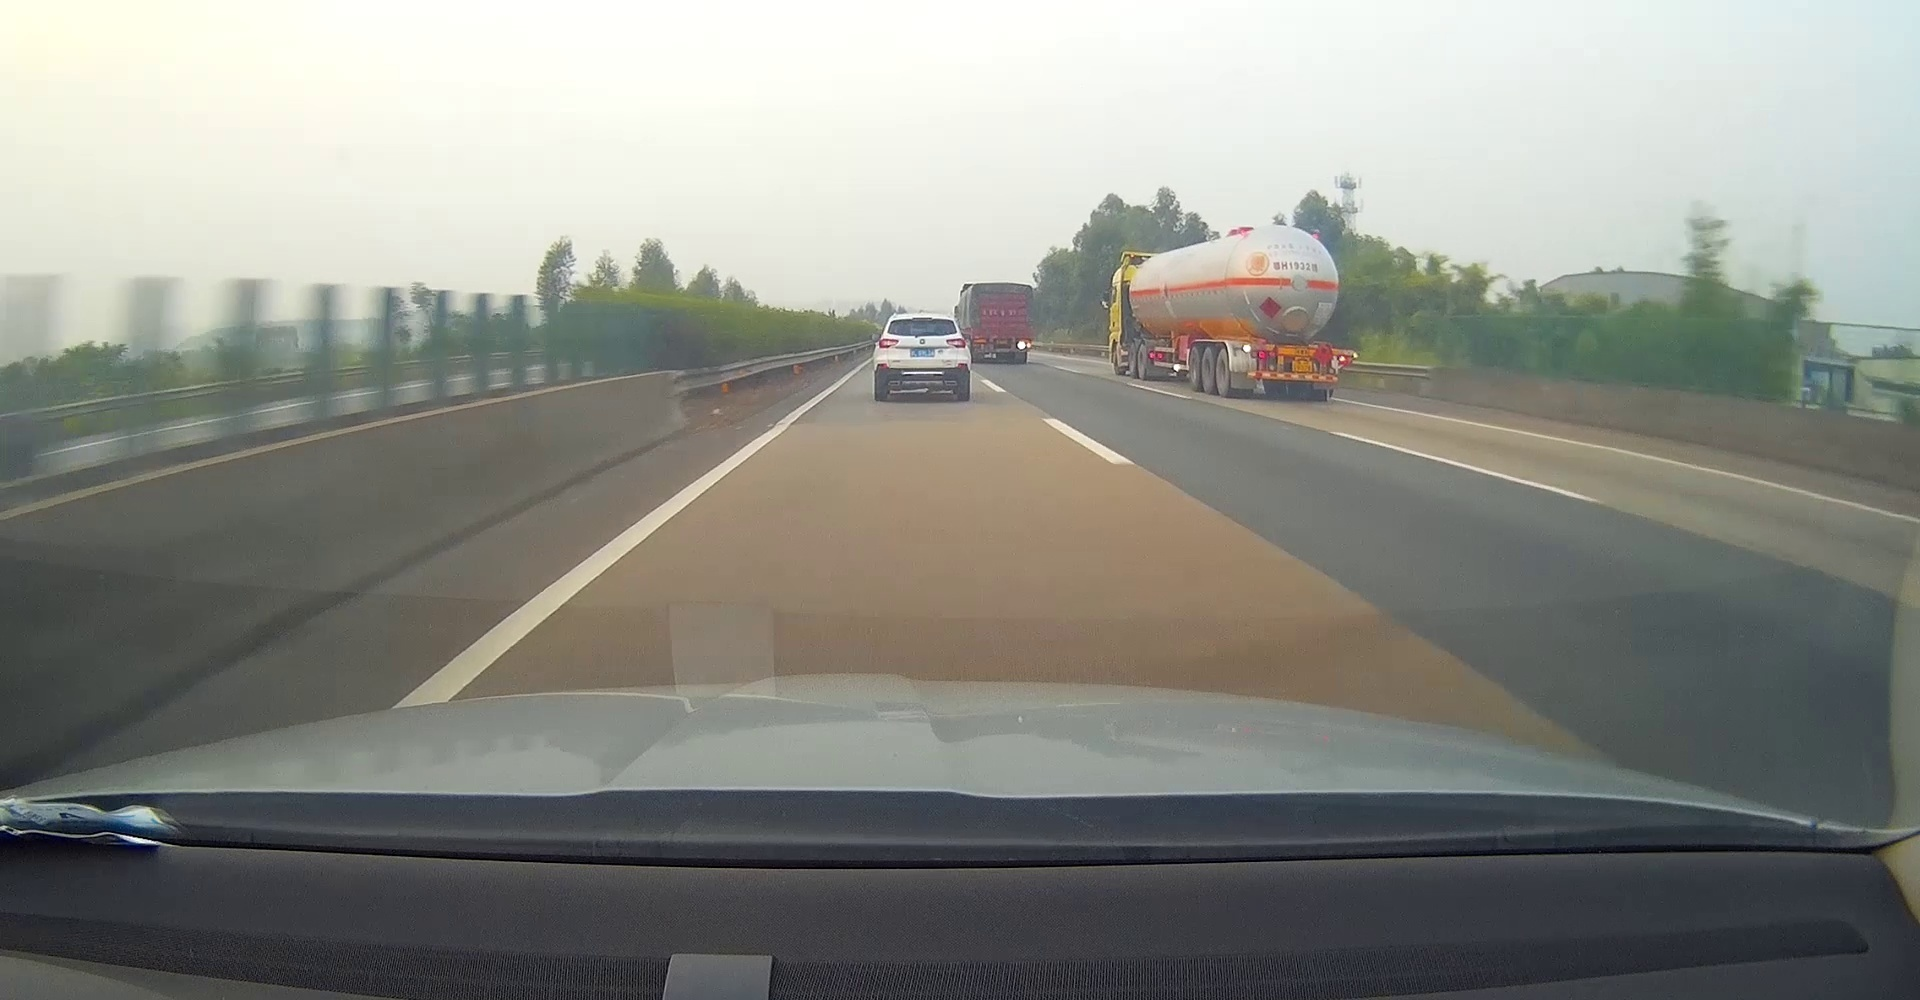L_light: (877, 338, 899, 348), (1251, 352, 1269, 359), (973, 343, 985, 349)
R_light: (945, 339, 966, 348), (1017, 341, 1031, 349), (1335, 357, 1349, 363)
T_light: (912, 316, 932, 321), (1295, 346, 1308, 354), (996, 287, 1008, 291)
day-brake: (1227, 341, 1357, 402)
day-no: (872, 313, 971, 401)
day-right: (971, 282, 1032, 365)
